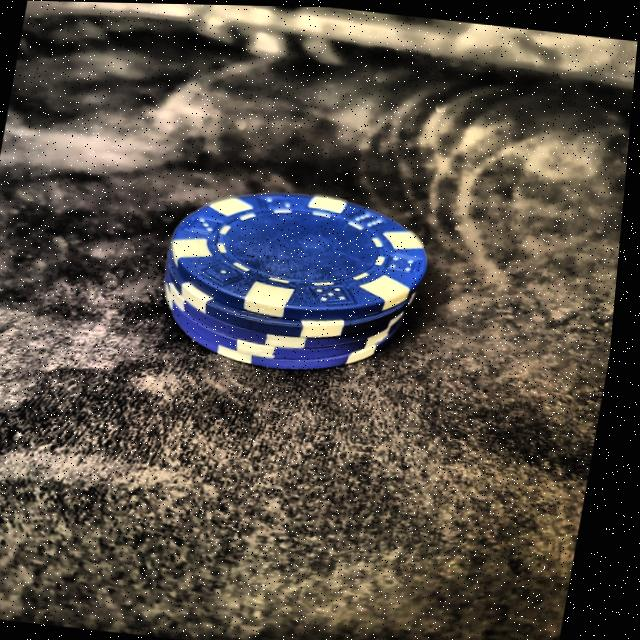Chip: (132, 159, 454, 395)
